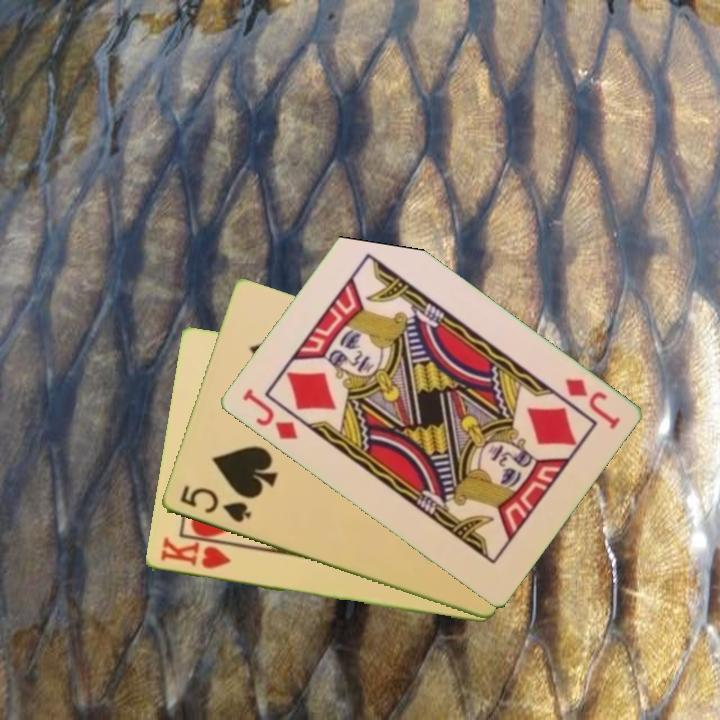5s: (175, 482, 254, 526)
Jd: (560, 374, 623, 433), (238, 385, 300, 443)
Kh: (156, 535, 233, 572)
